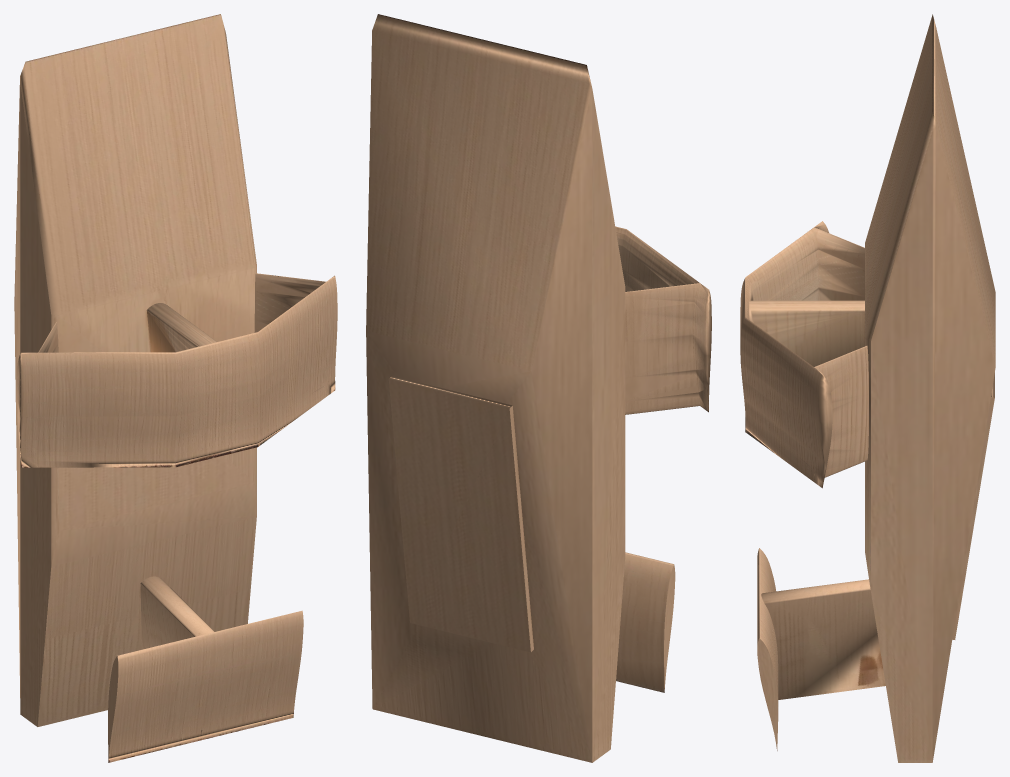
The model's file is bateau_test.glb.
3 renders of one model, left to right at view 1: azimuth 30°, elevation 25°; view 2: azimuth 150°, elevation 25°; view 3: azimuth 270°, elevation 25°, orthographic. The views are drawn at different scales.
Bounding box in the file's own units: 1.01 × 2 × 0.7104.
Materials: 1 (1 with a texture image).
